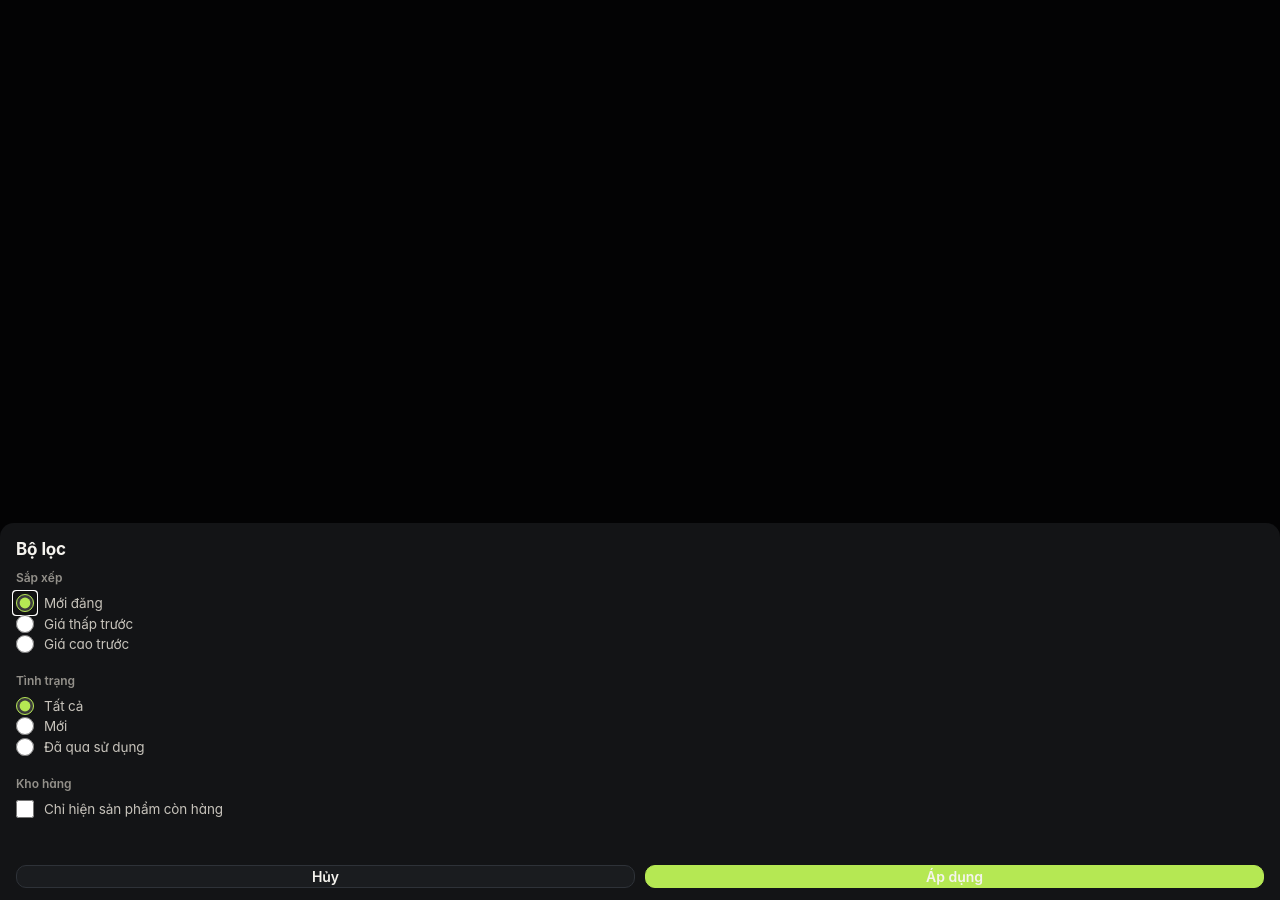
FilterSheet › shows the condition the buyer just chose
Click the radio button labelled "Đã qua sử dụng" at (25, 747), box [16,738,34,756]
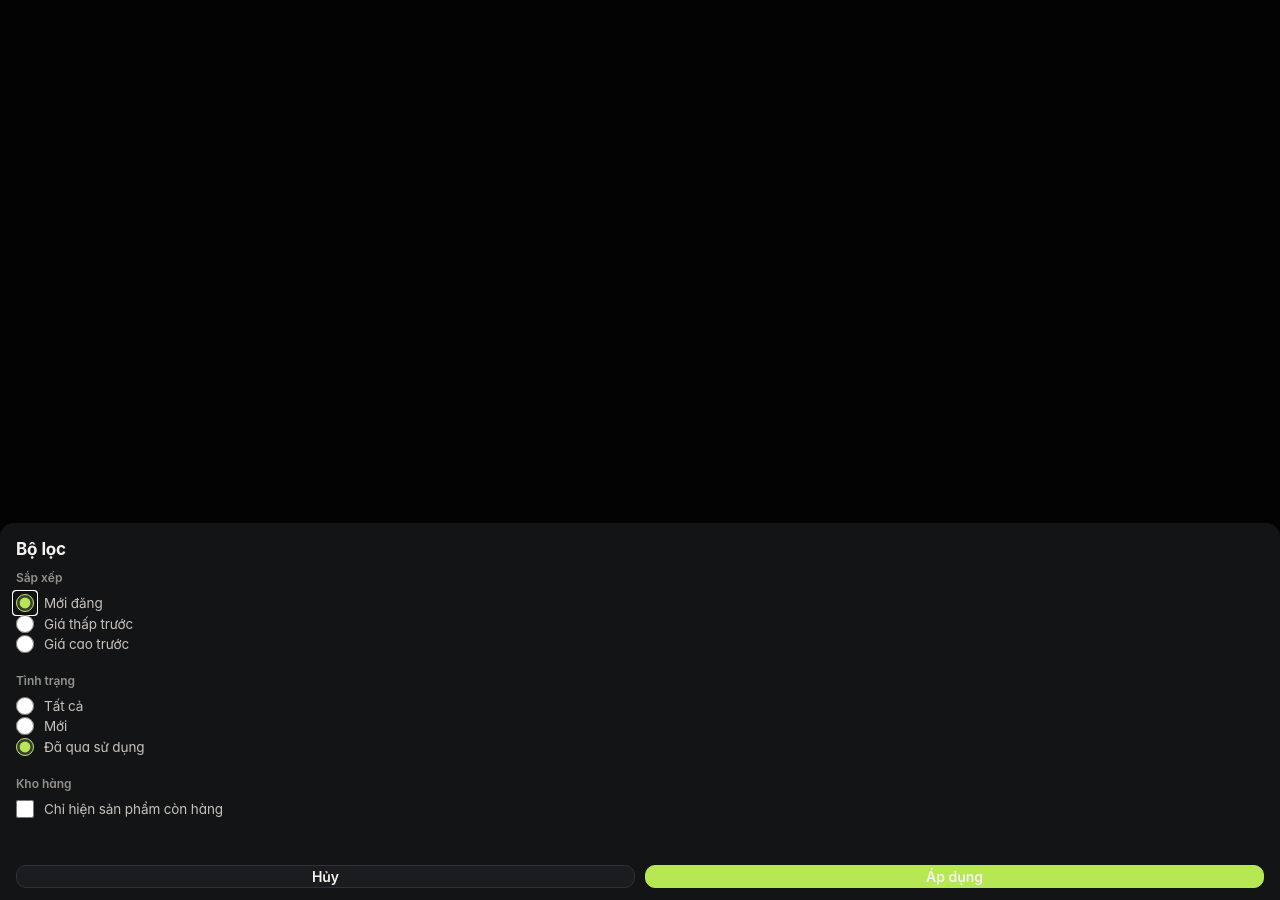
Result: the radio button labelled "Đã qua sử dụng" is checked at [16,738,34,756]
Result: the radio button labelled "Tất cả" is not checked at [16,697,34,715]
